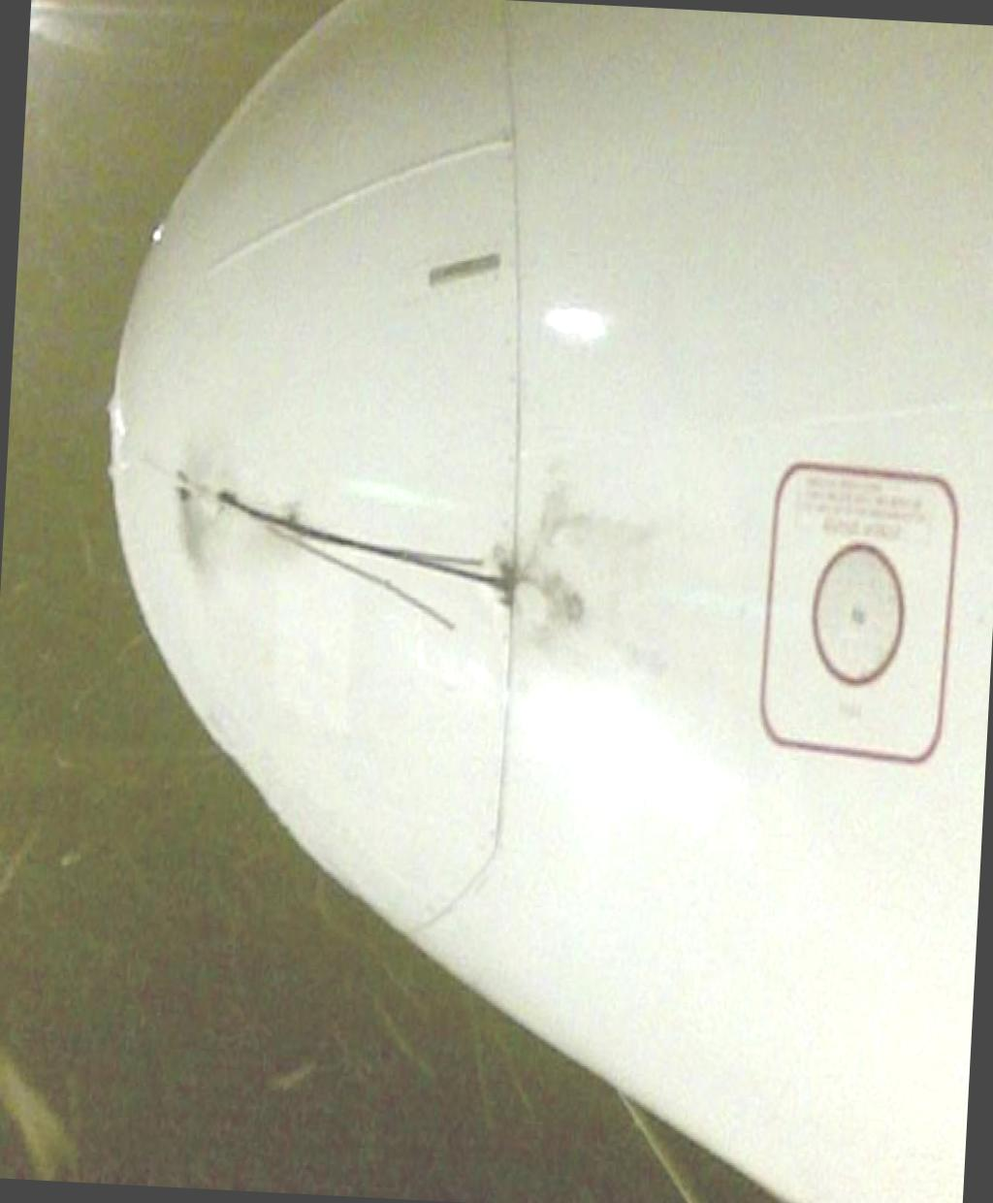crack: (168, 463, 513, 641)
